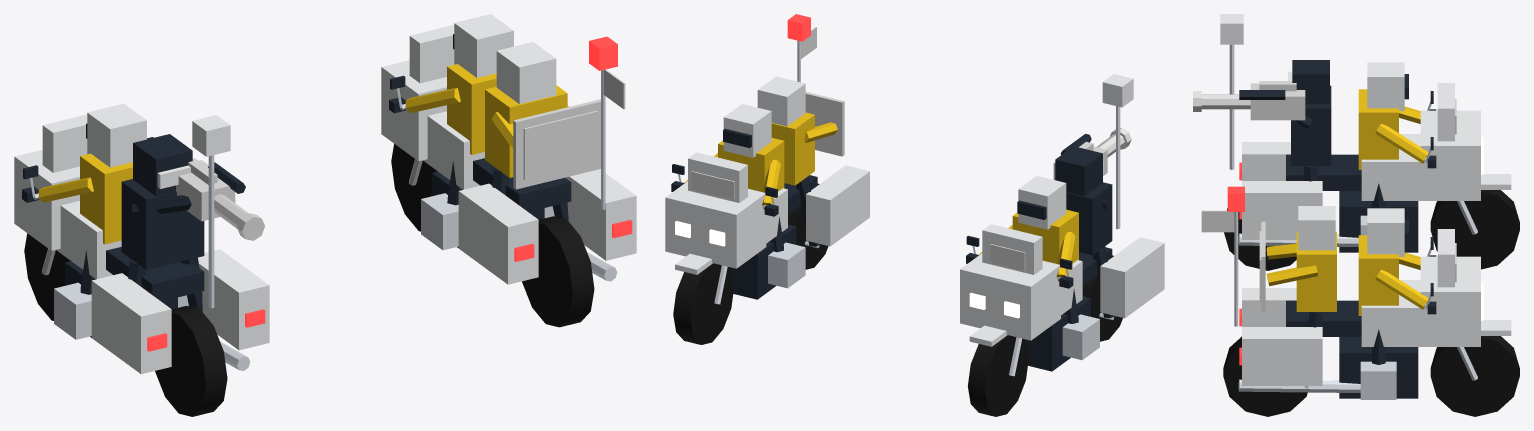
The model's file is vehicle_moto_tv.glb.
3 views of the same model, side by side, from view 1: azimuth 30°, elevation 25°; view 2: azimuth 150°, elevation 25°; view 3: azimuth 270°, elevation 25° (orthographic). The views are drawn at different scales.
Visible parts, largest first — view 1: Vehicle_Moto_TV, Vehicle_Moto_Commissaire_Companion; view 2: Vehicle_Moto_Commissaire_Companion, Vehicle_Moto_TV; view 3: Vehicle_Moto_Commissaire_Companion, Vehicle_Moto_TV.
Boxes of the visible parts, x1=… form: Vehicle_Moto_TV: x1=14, y1=103, x2=269, y2=416; Vehicle_Moto_Commissaire_Companion: x1=381, y1=14, x2=636, y2=327; Vehicle_Moto_Commissaire_Companion: x1=665, y1=14, x2=869, y2=344; Vehicle_Moto_TV: x1=960, y1=74, x2=1164, y2=416; Vehicle_Moto_Commissaire_Companion: x1=1201, y1=186, x2=1519, y2=416; Vehicle_Moto_TV: x1=1193, y1=14, x2=1519, y2=270.
Size of the model in its own units: 3.25 by 1.9 by 2.27.
